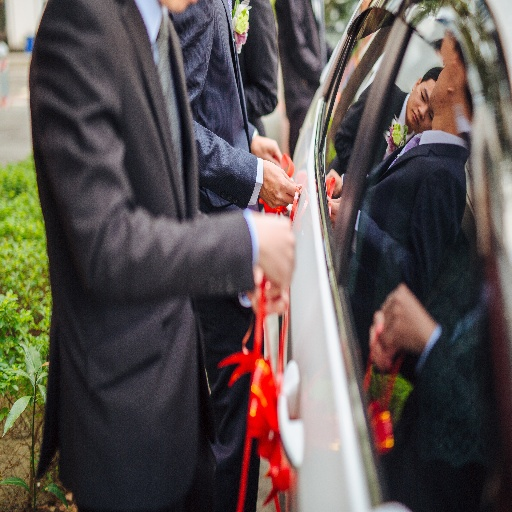hand: (253, 209, 295, 290), (260, 155, 303, 210), (251, 274, 288, 320), (249, 134, 284, 166)
